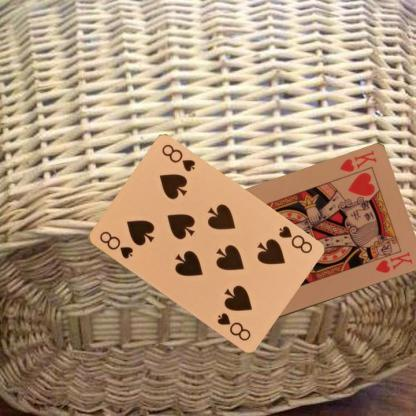8s: (96, 228, 134, 261), (275, 223, 313, 255)
Kh: (337, 148, 378, 174)
